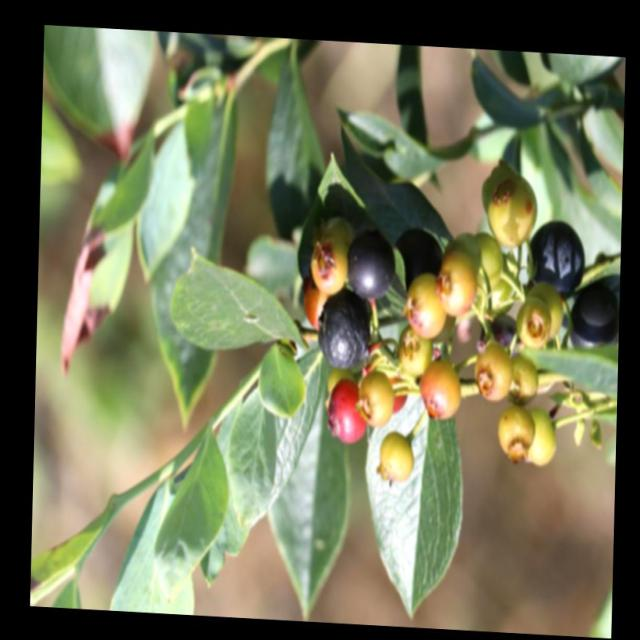blueberry: (523, 216, 585, 304), (315, 295, 372, 369), (566, 281, 618, 362), (344, 228, 396, 301), (390, 222, 445, 288), (475, 310, 523, 358)
blueberry-halfripe: (325, 371, 368, 443)
blueberry-unripe: (488, 177, 536, 252), (417, 360, 463, 420), (353, 368, 396, 432), (471, 340, 514, 404), (432, 258, 475, 316), (406, 276, 445, 339), (376, 426, 417, 484), (394, 323, 432, 380), (526, 280, 562, 340), (311, 237, 348, 292), (524, 406, 556, 469), (469, 234, 504, 291), (502, 408, 536, 464), (508, 352, 537, 411), (518, 303, 552, 349)
